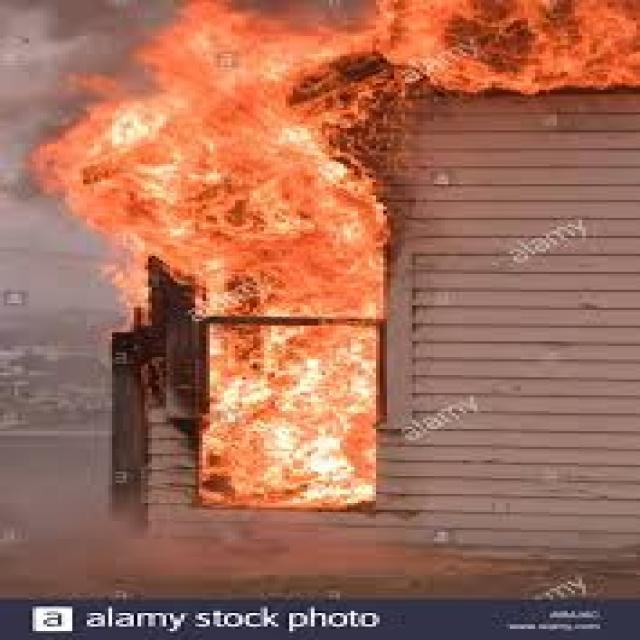Fire: (108, 2, 402, 516), (191, 2, 640, 105), (7, 33, 163, 290)
